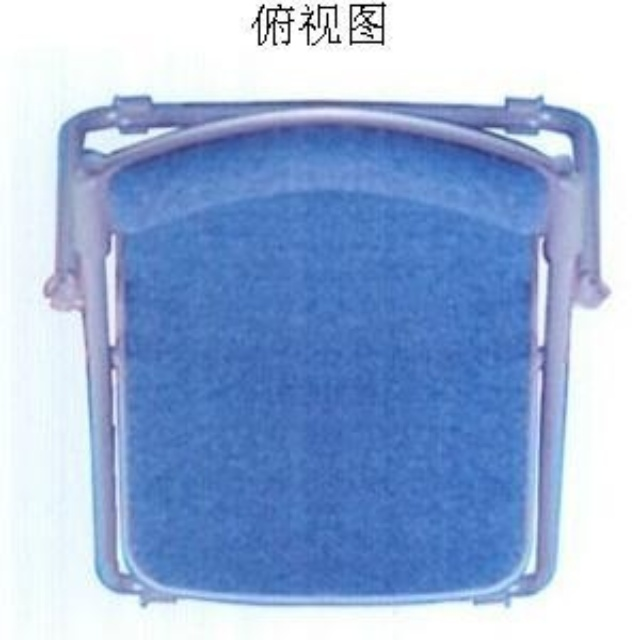obstacle: (45, 95, 606, 601)
